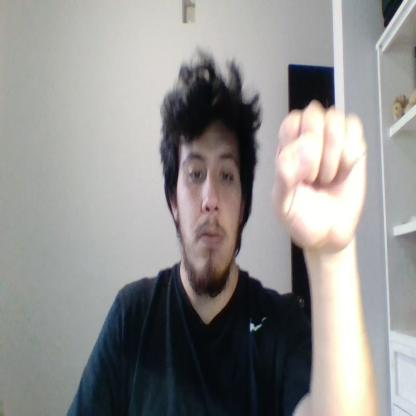S: (272, 102, 367, 250)
